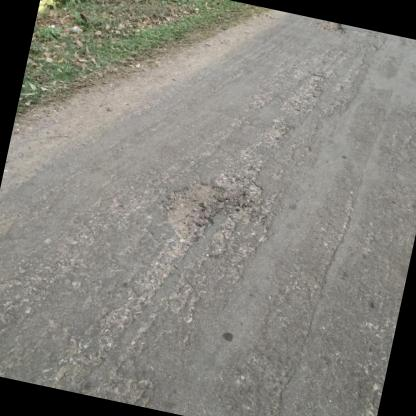pothole: (158, 173, 232, 250)
